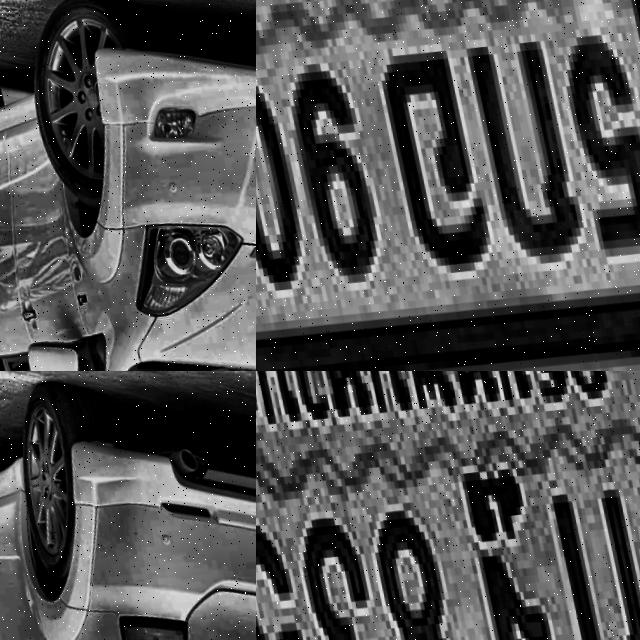license-plate: (256, 0, 640, 371), (256, 371, 640, 640)
